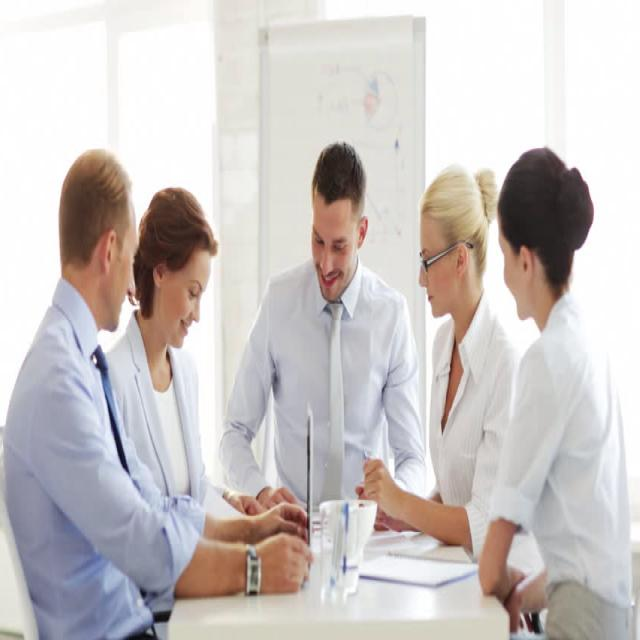adult: (1, 152, 314, 640), (479, 143, 633, 640), (218, 140, 424, 510), (356, 163, 511, 541), (109, 184, 220, 536)
